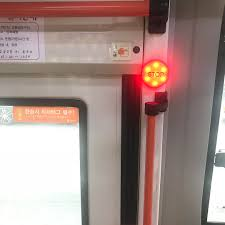bell: (140, 59, 169, 89)
